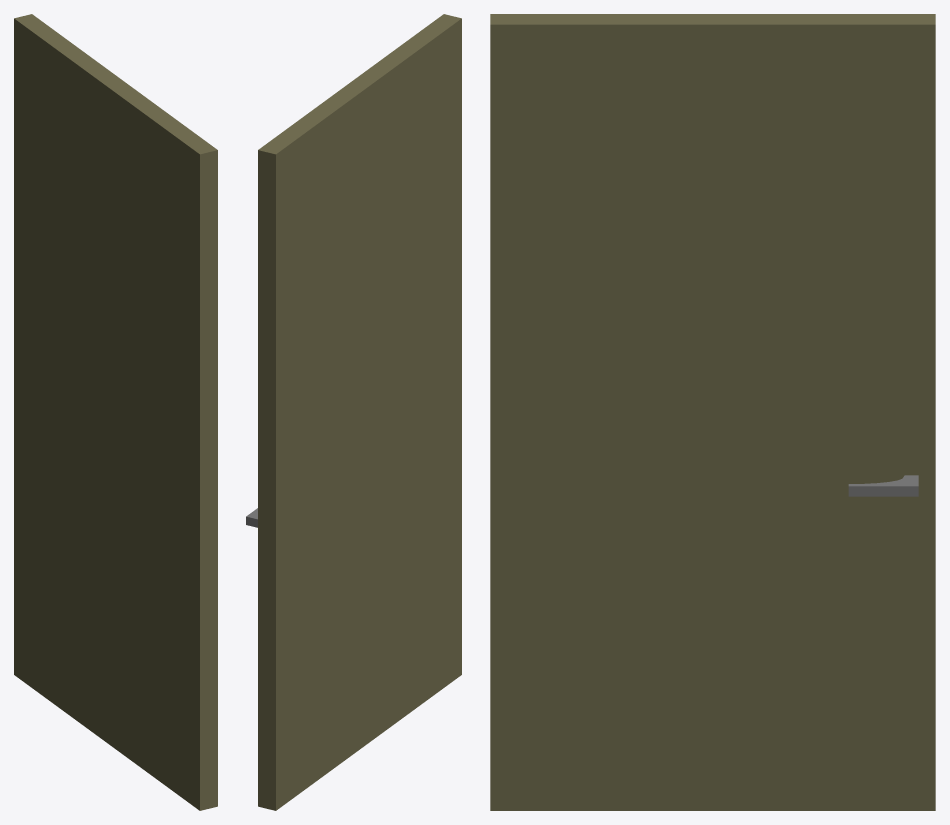
The model's file is Door.fbx.
3 views of the same model, side by side, from view 1: azimuth 30°, elevation 25°; view 2: azimuth 150°, elevation 25°; view 3: azimuth 270°, elevation 25° (orthographic). The views are drawn at different scales.
Visible parts, largest first — view 1: Cube.005; view 2: Cube.005; view 3: Cube.005, Cube.007.
Part boxes in pixels (<box>): Cube.005: <box>14,14,217,810</box>; Cube.005: <box>258,14,461,810</box>; Cube.005: <box>490,14,935,810</box>; Cube.007: <box>848,475,918,496</box>.
Size of the model in its own units: 29.63 by 503 by 258.
